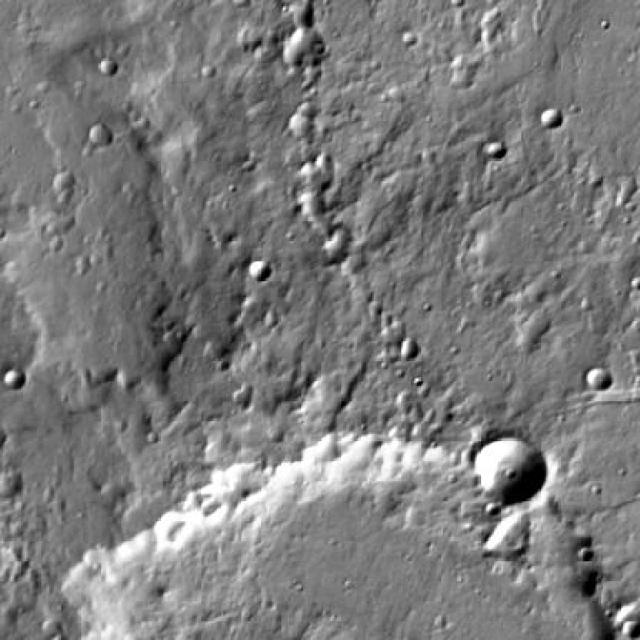crater: (73, 447, 626, 640), (473, 434, 555, 506), (300, 194, 346, 235), (285, 29, 321, 60), (312, 228, 340, 252), (590, 370, 616, 393), (290, 186, 316, 209), (302, 206, 327, 228), (279, 108, 304, 129), (332, 247, 356, 267), (249, 260, 271, 280), (613, 612, 635, 632), (289, 156, 311, 175), (397, 336, 418, 355), (289, 93, 309, 112), (53, 219, 73, 238), (92, 130, 112, 148), (53, 170, 73, 188), (486, 137, 505, 154), (542, 108, 562, 124), (307, 147, 325, 164), (5, 368, 18, 384), (39, 631, 61, 640)
